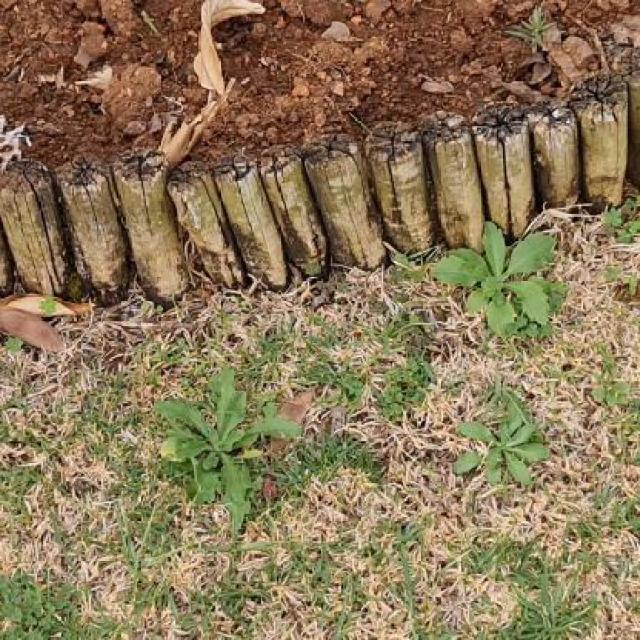weed: (157, 369, 302, 533), (435, 222, 566, 336), (455, 389, 549, 485)
